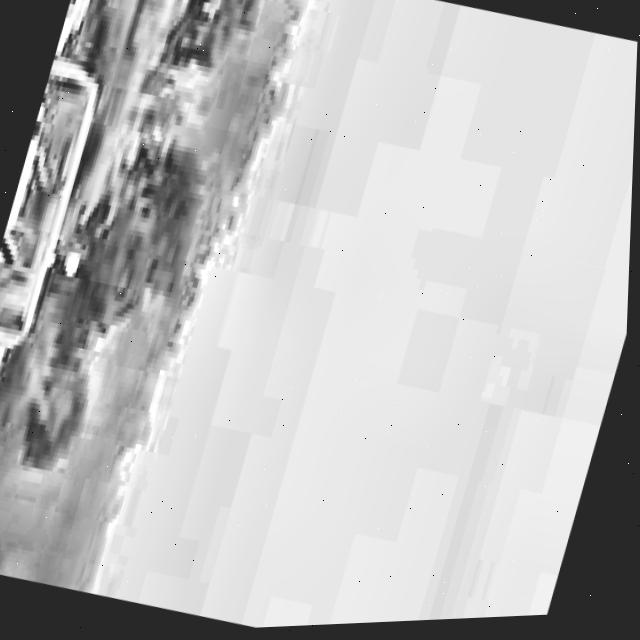Gerbong: (0, 48, 117, 378)
Lokomotif: (0, 404, 6, 538)
